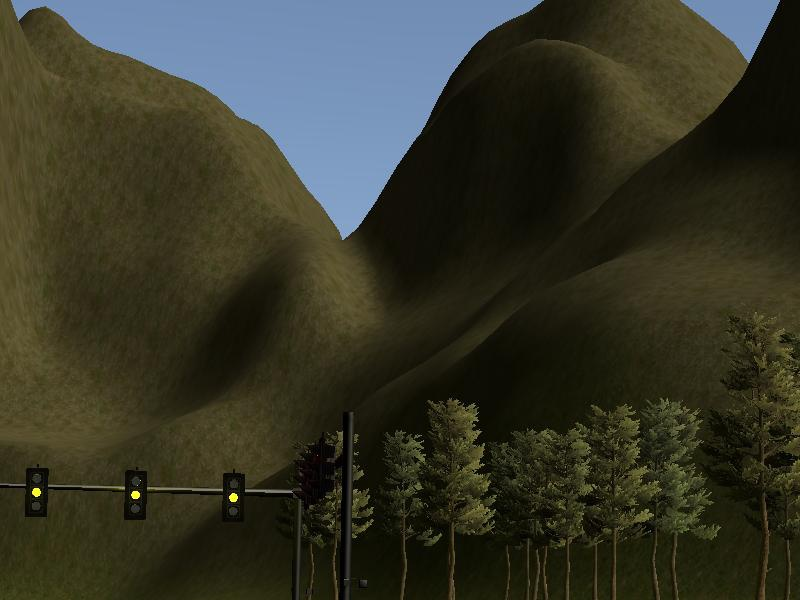Yellow: (24, 465, 49, 518), (123, 468, 148, 521), (220, 471, 245, 524)
